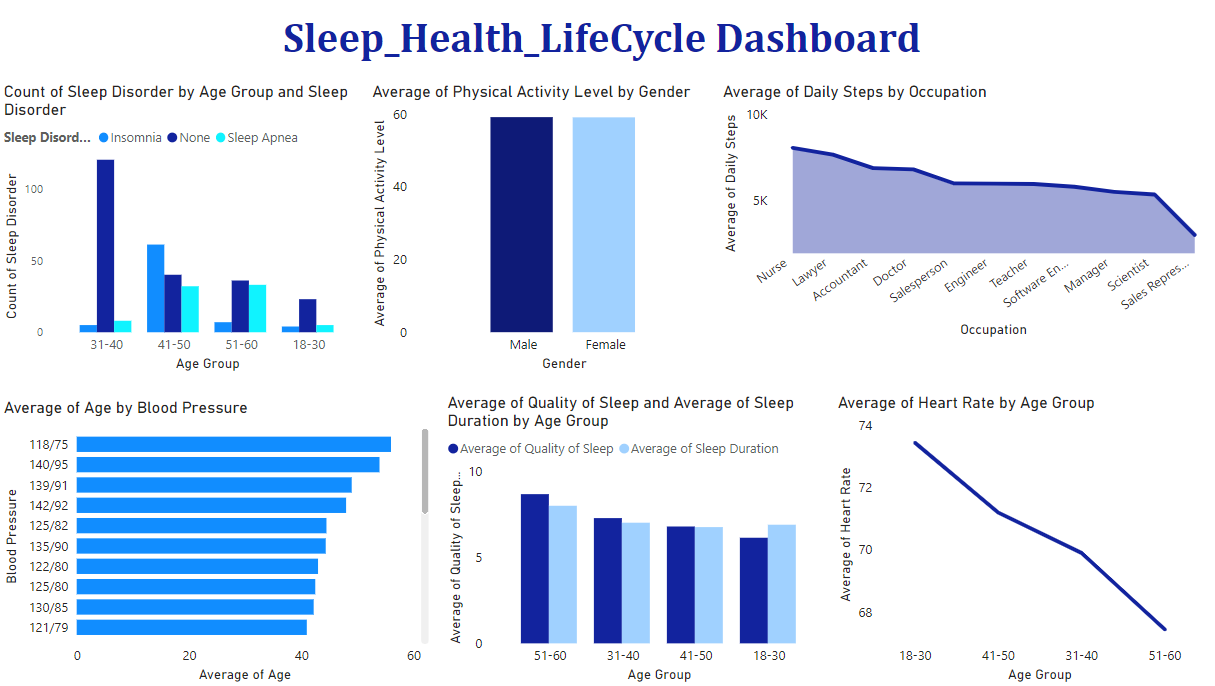

This screenshot's page, from the dashboard's own definition file:
{"tool":"powerbi","page":{"name":"D1","canvas":[1280,720],"ordinal":0},"visuals":[{"type":"clusteredColumnChart","fields":{"Category":["Sleep_health_and_lifestyle_dataset.Age Group"],"Series":["Sleep_health_and_lifestyle_dataset.Sleep Disorder"],"Y":["CountNonNull(Sleep_health_and_lifestyle_dataset.Sleep Disorder)"]},"box":[0,88.6,385.7,307.1],"z":0},{"type":"clusteredColumnChart","fields":{"Category":["Sleep_health_and_lifestyle_dataset.Gender"],"Y":["Avg(Sleep_health_and_lifestyle_dataset.Physical Activity Level)"]},"box":[385.7,88.6,365.7,307.1],"z":1000},{"type":"lineChart","fields":{"Category":["Sleep_health_and_lifestyle_dataset.Age Group"],"Y":["Avg(Sleep_health_and_lifestyle_dataset.Heart Rate)"]},"box":[871.4,412.9,387.1,307.1],"z":2000},{"type":"clusteredBarChart","fields":{"Category":["Sleep_health_and_lifestyle_dataset.Blood Pressure"],"Y":["Avg(Sleep_health_and_lifestyle_dataset.Age)"]},"box":[0,418.6,454.3,301.4],"z":3000},{"type":"clusteredColumnChart","fields":{"Category":["Sleep_health_and_lifestyle_dataset.Age Group"],"Y":["Avg(Sleep_health_and_lifestyle_dataset.Quality of Sleep)","Avg(Sleep_health_and_lifestyle_dataset.Sleep Duration)"]},"box":[464.3,412.9,407.1,307.1],"z":4000},{"type":"areaChart","fields":{"Category":["Sleep_health_and_lifestyle_dataset.Occupation"],"Y":["Avg(Sleep_health_and_lifestyle_dataset.Daily Steps)"]},"box":[751.4,88.6,520,271.4],"z":5000},{"type":"textbox","box":[291.4,10,697.1,62.9],"z":6000}]}

Visuals, with their boxes in screenshot pixels (x1, y1, x2, y2), scaled from the page's 1280x720 canvas onto the 1215x686 screenshot:
clusteredColumnChart - Sleep_health_and_lifestyle_dataset.Age Group x Sleep_health_and_lifestyle_dataset.Sleep Disorder: rect(0, 84, 366, 377)
clusteredColumnChart - Sleep_health_and_lifestyle_dataset.Gender x Avg(Sleep_health_and_lifestyle_dataset.Physical Activity Level): rect(366, 84, 713, 377)
lineChart - Sleep_health_and_lifestyle_dataset.Age Group x Avg(Sleep_health_and_lifestyle_dataset.Heart Rate): rect(827, 393, 1195, 685)
clusteredBarChart - Sleep_health_and_lifestyle_dataset.Blood Pressure x Avg(Sleep_health_and_lifestyle_dataset.Age): rect(0, 399, 431, 685)
clusteredColumnChart - Sleep_health_and_lifestyle_dataset.Age Group x Avg(Sleep_health_and_lifestyle_dataset.Quality of Sleep): rect(441, 393, 827, 685)
areaChart - Sleep_health_and_lifestyle_dataset.Occupation x Avg(Sleep_health_and_lifestyle_dataset.Daily Steps): rect(713, 84, 1207, 343)
textbox: rect(277, 10, 938, 69)
